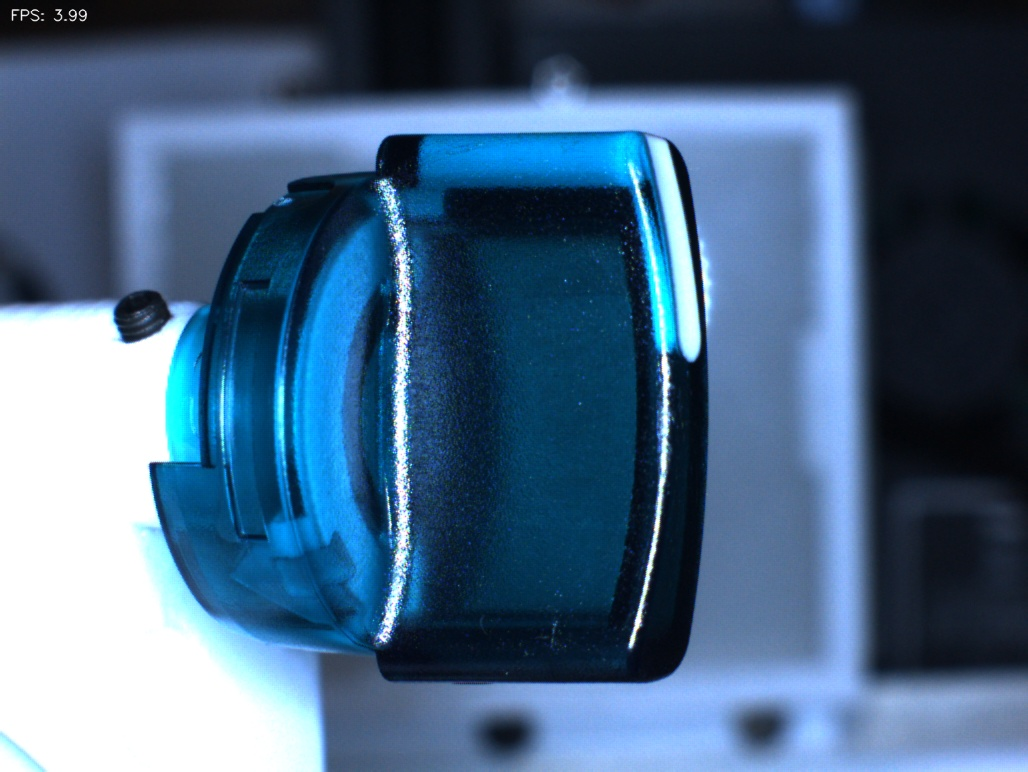Givrage: (508, 567, 591, 658)
